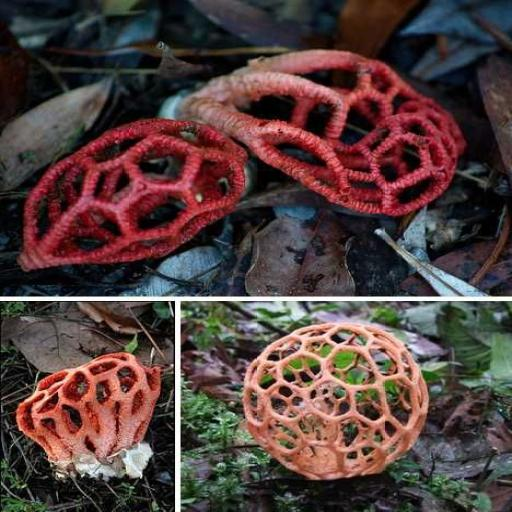Red Cage Fungus: (169, 0, 483, 242), (6, 110, 252, 271), (232, 309, 438, 491), (15, 350, 163, 483)
